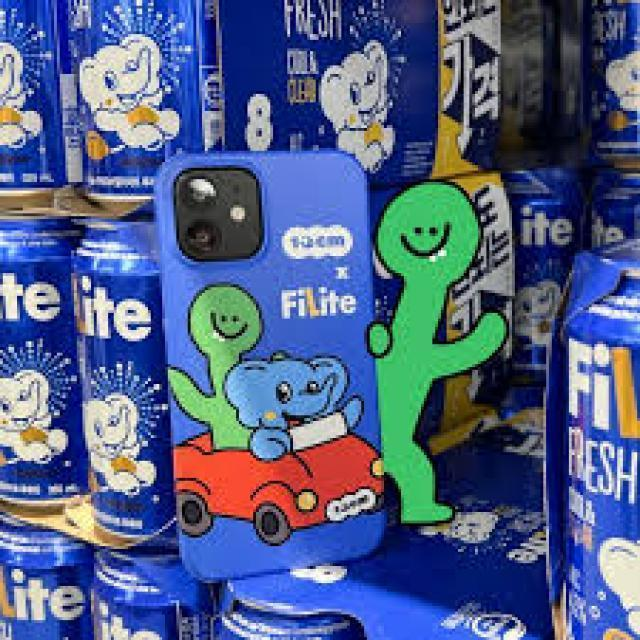Mobile: (151, 147, 388, 583)
